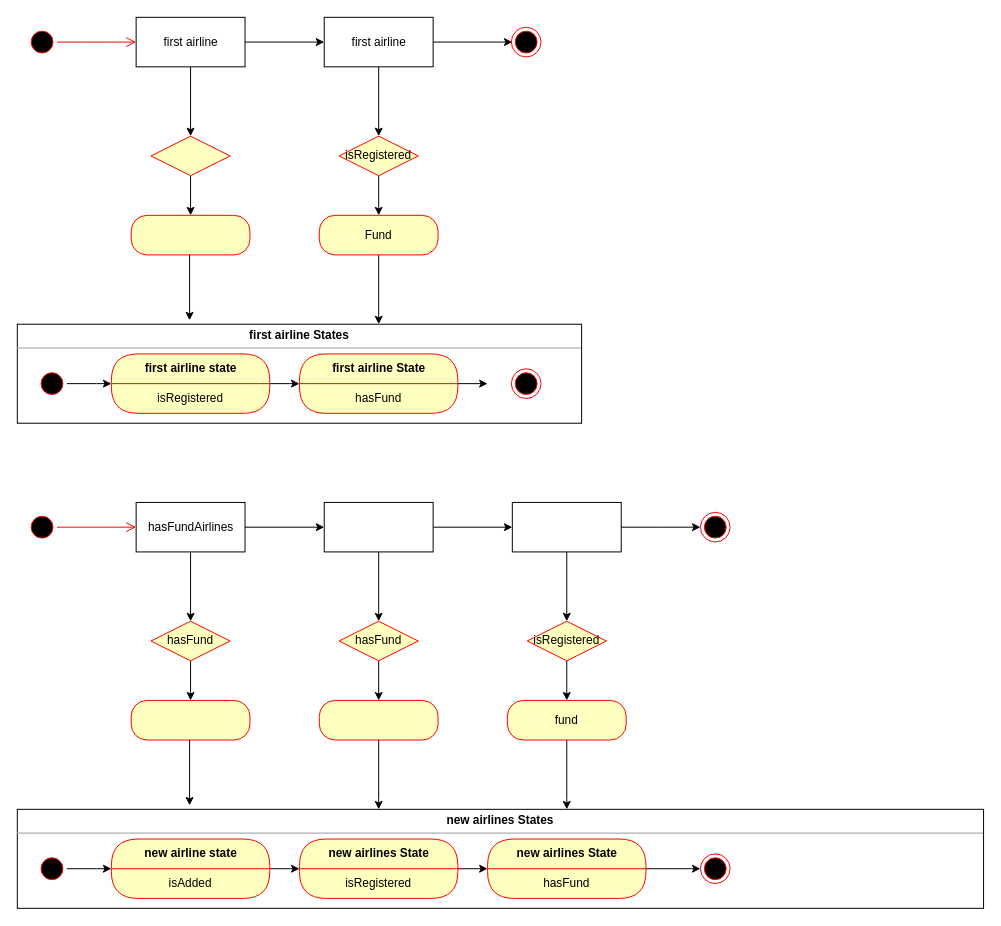
Image size: 1001x926. Some labels were removed from this diagram. The centre of each missing label's shape, as x and y in pixels:
"addAirline" belongs at point (190, 719).
"contract deployed" belongs at point (190, 234).
"hasFundAirline" belongs at point (378, 526).
"isRegisteredAirline" belongs at point (566, 526).
"vote" belongs at point (378, 719).
